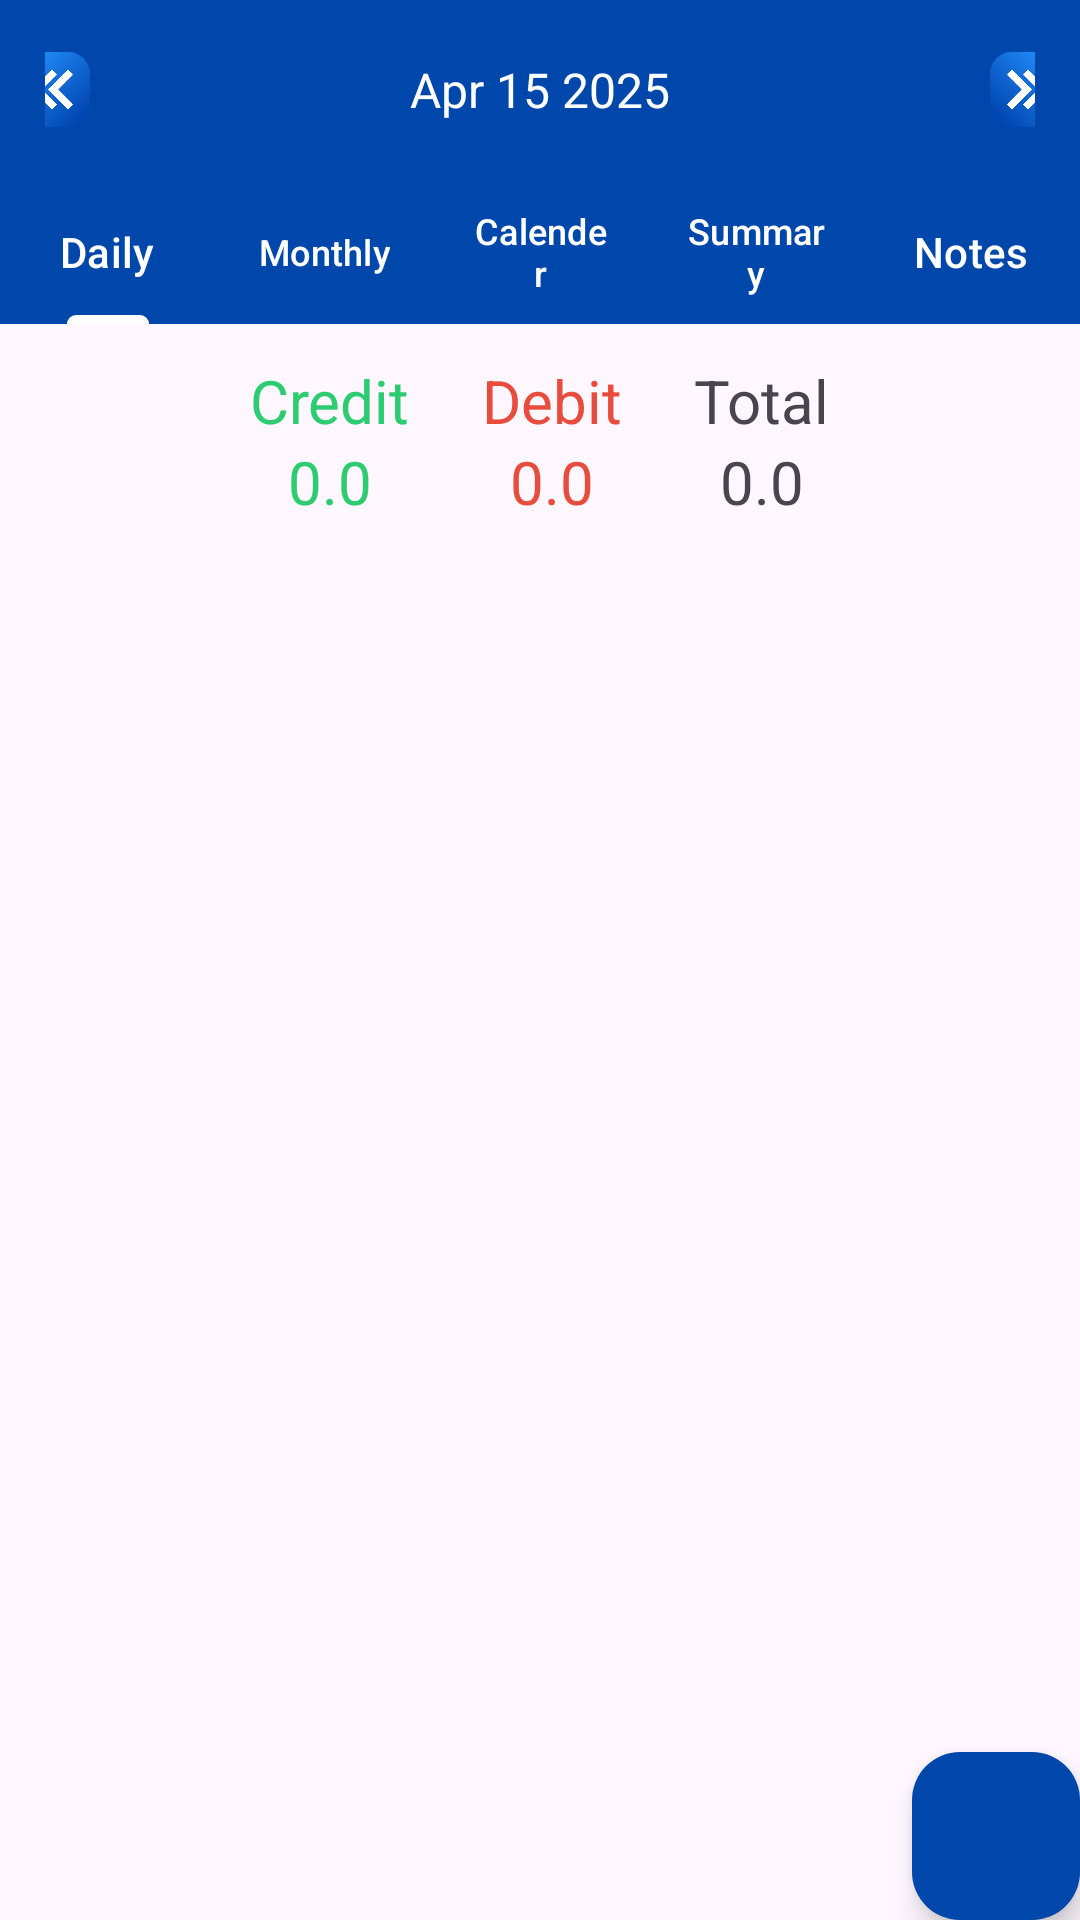

Screen size 1080w x 1920h. Icon name, then its box in pixels as bbox(x1, y1, x2, y2):
left: bbox(45, 52, 90, 126)
right: bbox(990, 52, 1035, 126)
